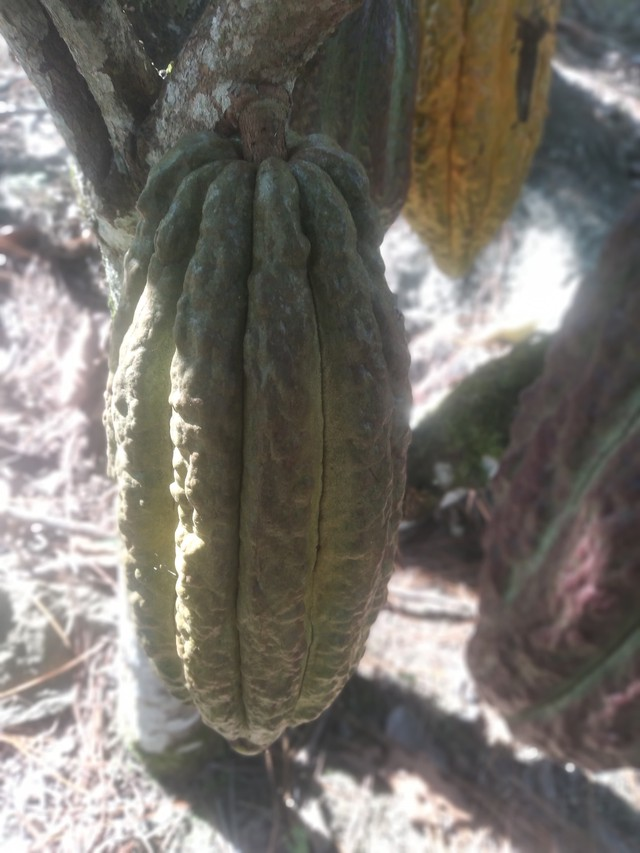Health: (87, 108, 428, 753)
